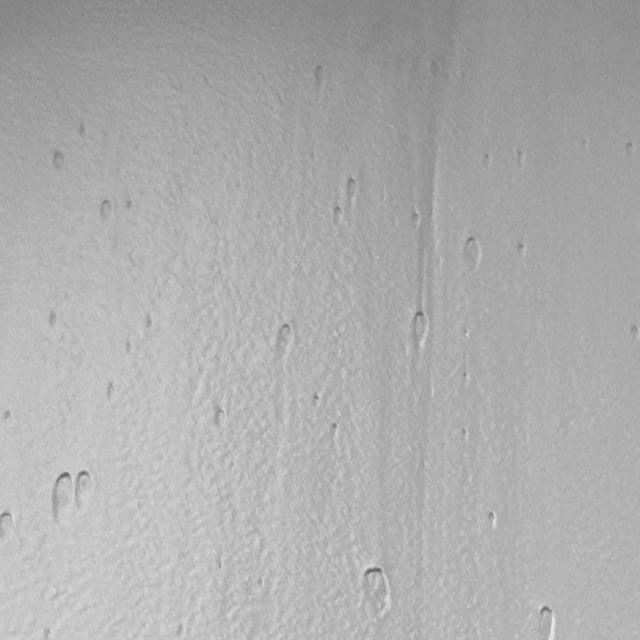pin holes: (358, 563, 394, 621), (46, 468, 76, 526), (407, 309, 432, 349), (533, 603, 559, 640), (273, 320, 298, 356), (72, 469, 96, 506), (459, 237, 482, 270), (0, 511, 18, 543), (310, 63, 328, 91), (212, 405, 232, 430), (98, 198, 116, 225), (49, 150, 69, 174), (344, 176, 361, 203), (44, 309, 63, 333), (104, 379, 120, 404), (479, 152, 497, 174), (485, 509, 502, 532), (332, 204, 346, 231), (428, 58, 445, 80), (74, 122, 91, 144), (514, 150, 530, 172), (326, 421, 341, 443), (2, 406, 18, 426), (309, 392, 325, 410), (144, 312, 158, 332), (514, 240, 528, 259), (409, 210, 422, 230), (458, 427, 471, 446), (624, 140, 637, 157), (627, 325, 638, 343), (579, 136, 591, 152), (124, 199, 136, 213)
